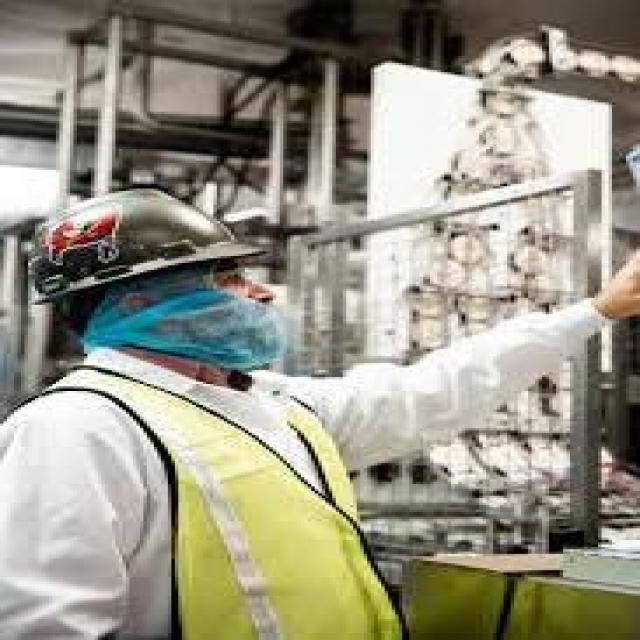Reflective-Jacket: (0, 358, 406, 636)
Safety-Helmet: (17, 179, 280, 310)
